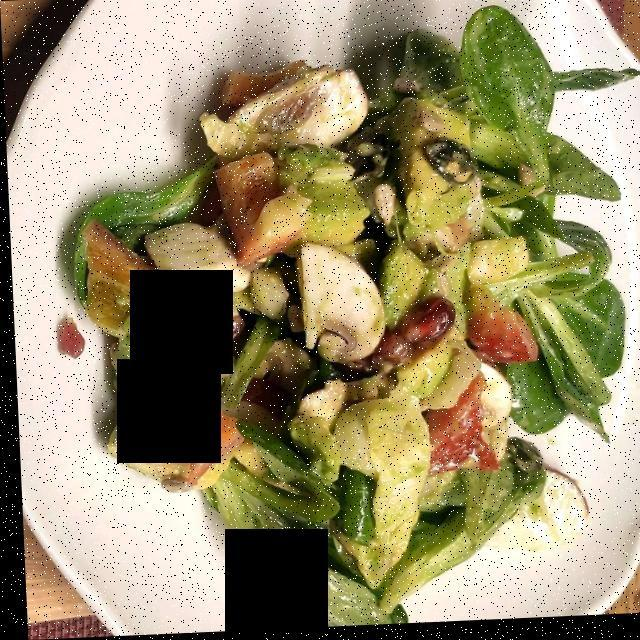bell-pepper: (422, 309, 544, 495)
mushroom: (289, 241, 369, 371)
pumpkin-seeds: (417, 135, 468, 194)
salad: (99, 0, 620, 606)
